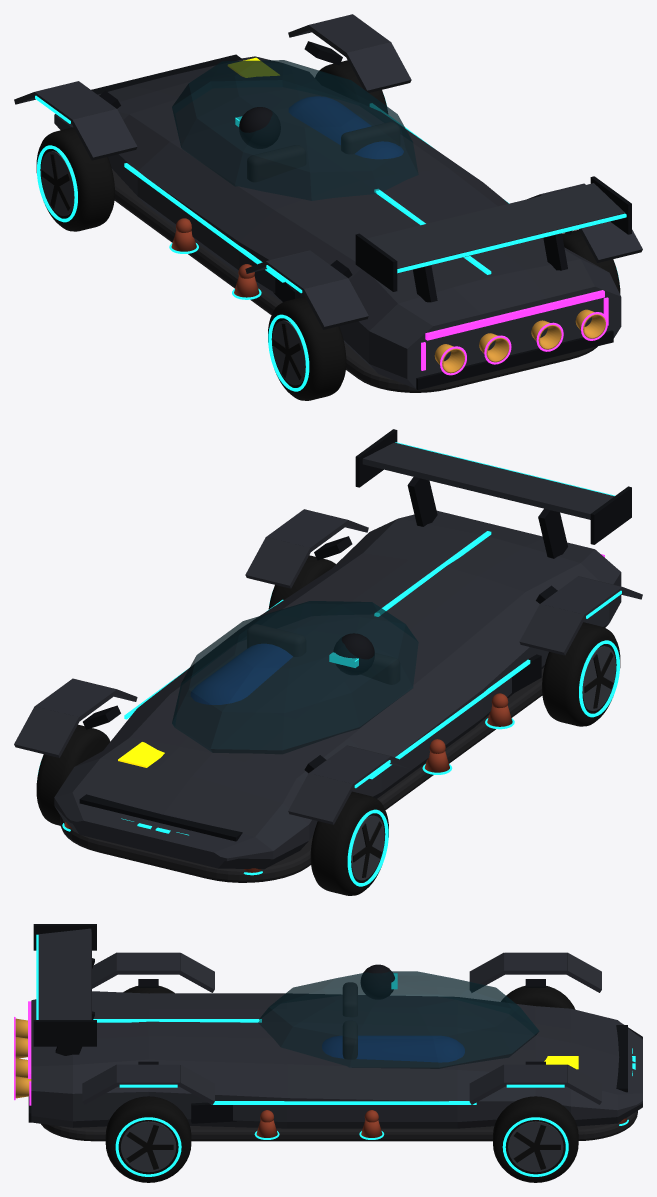
The model's file is car.glb.
The picture shows the model from 3 angles, top to bottom: view 1: azimuth 30°, elevation 25°; view 2: azimuth 150°, elevation 25°; view 3: azimuth 270°, elevation 25°; orthographic projection. The views are drawn at different scales.
Parts seen in each view (by area): view 1: Shell, Canopy, Wing, Wheel_FL, Wheel_RL, Chassis, Tank_Rocket, Diffuser, Fender.002, Fender.008, Fender.005, Fender.003 (+23 smaller); view 2: Shell, Canopy, Wing, Wheel_RL, Wheel_FL, Chassis, Tank_Rocket, Wheel_FR, Fender.007, Fender.010, Fender.001, Fender.004 (+19 smaller); view 3: Shell, Canopy, Wheel_RR, Wheel_FR, Chassis, Wing, Tank_Rocket, WingEndplate.001, Fender, Fender.006, Fender.003, Fender.009 (+19 smaller).
Boxes of the visible parts, x1=… form: Shell: x1=54, y1=56, x2=621, y2=388; Canopy: x1=172, y1=60, x2=418, y2=200; Wing: x1=366, y1=183, x2=625, y2=273; Wheel_FL: x1=36, y1=127, x2=114, y2=231; Wheel_RL: x1=268, y1=296, x2=346, y2=400; Chassis: x1=112, y1=169, x2=597, y2=392; Tank_Rocket: x1=288, y1=96, x2=403, y2=159; Diffuser: x1=416, y1=330, x2=613, y2=389; Fender.002: x1=71, y1=109, x2=137, y2=160; Fender.008: x1=303, y1=278, x2=368, y2=329; Fender.005: x1=346, y1=42, x2=411, y2=93; Fender.003: x1=309, y1=14, x2=390, y2=57; Shell: x1=54, y1=510, x2=621, y2=869; Canopy: x1=172, y1=601, x2=418, y2=754; Wing: x1=362, y1=442, x2=614, y2=519; Wheel_RL: x1=542, y1=622, x2=620, y2=726; Wheel_FL: x1=310, y1=791, x2=388, y2=895; Chassis: x1=60, y1=667, x2=544, y2=882; Tank_Rocket: x1=190, y1=643, x2=292, y2=704; Wheel_FR: x1=36, y1=724, x2=110, y2=825; Fender.007: x1=519, y1=604, x2=585, y2=655; Fender.010: x1=245, y1=537, x2=310, y2=588; Fender.001: x1=288, y1=773, x2=353, y2=824; Fender.004: x1=14, y1=706, x2=79, y2=757; Shell: x1=31, y1=991, x2=642, y2=1128; Canopy: x1=258, y1=971, x2=539, y2=1068; Wheel_RR: x1=105, y1=1096, x2=191, y2=1182; Wheel_FR: x1=493, y1=1096, x2=578, y2=1182; Chassis: x1=41, y1=1111, x2=637, y2=1141; Wing: x1=38, y1=928, x2=91, y2=1019; Tank_Rocket: x1=322, y1=1035, x2=464, y2=1062; WingEndplate.001: x1=33, y1=1020, x2=96, y2=1046; Fender: x1=504, y1=952, x2=567, y2=974; Fender.006: x1=117, y1=952, x2=179, y2=974; Fender.003: x1=504, y1=1064, x2=567, y2=1086; Fender.009: x1=117, y1=1064, x2=179, y2=1086.
Size of what is drawn, in the model's own units: 2.46 by 1.31 by 4.99.
